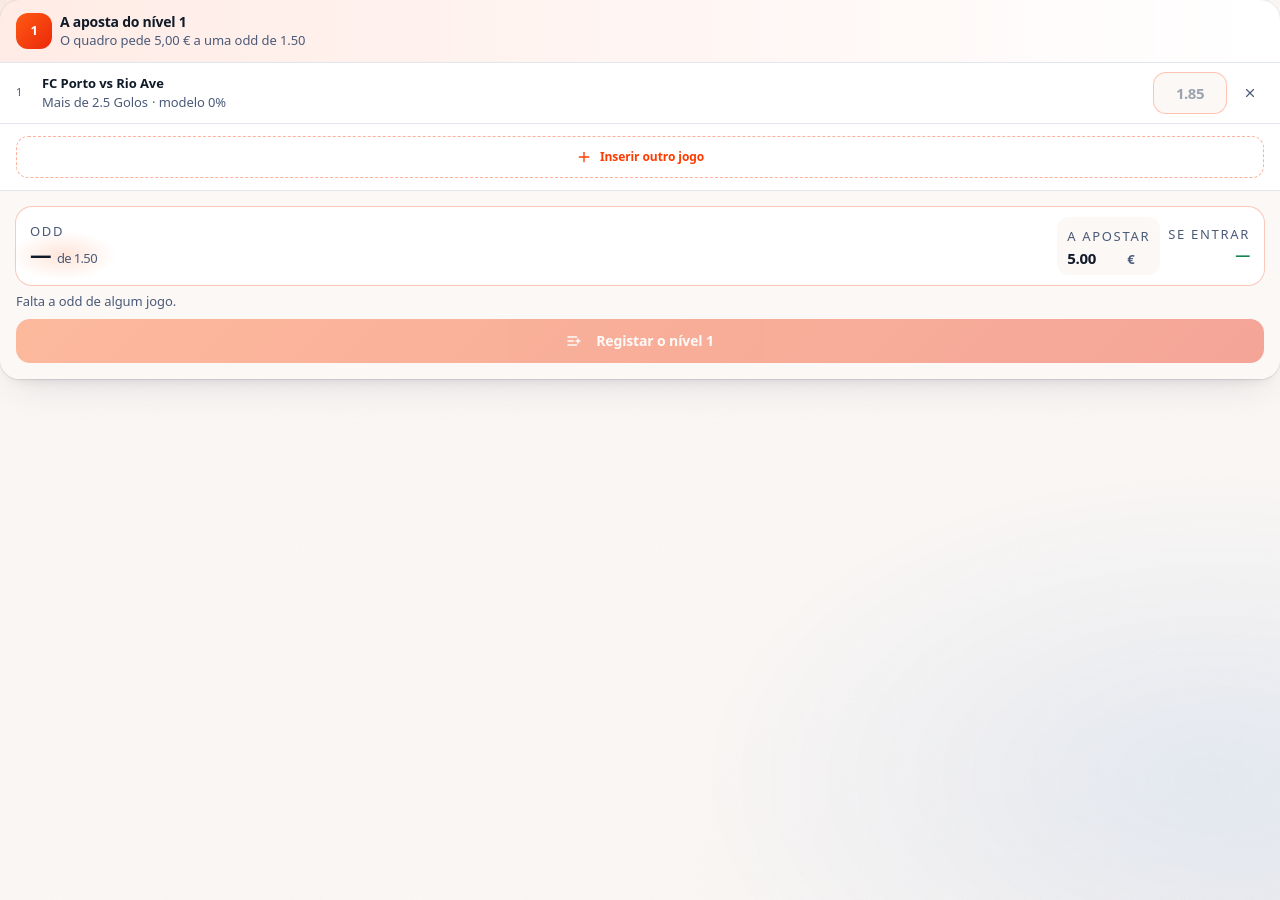
Test case: what the slip says about the price being taken › puts the competition's rate next to what the odd demands
Type "1.47" into the field named "Odd de FC Porto vs Rio Ave".
click(1190, 92); type("1.47")  # box top-left (1154, 72), bottom-right (1226, 112)
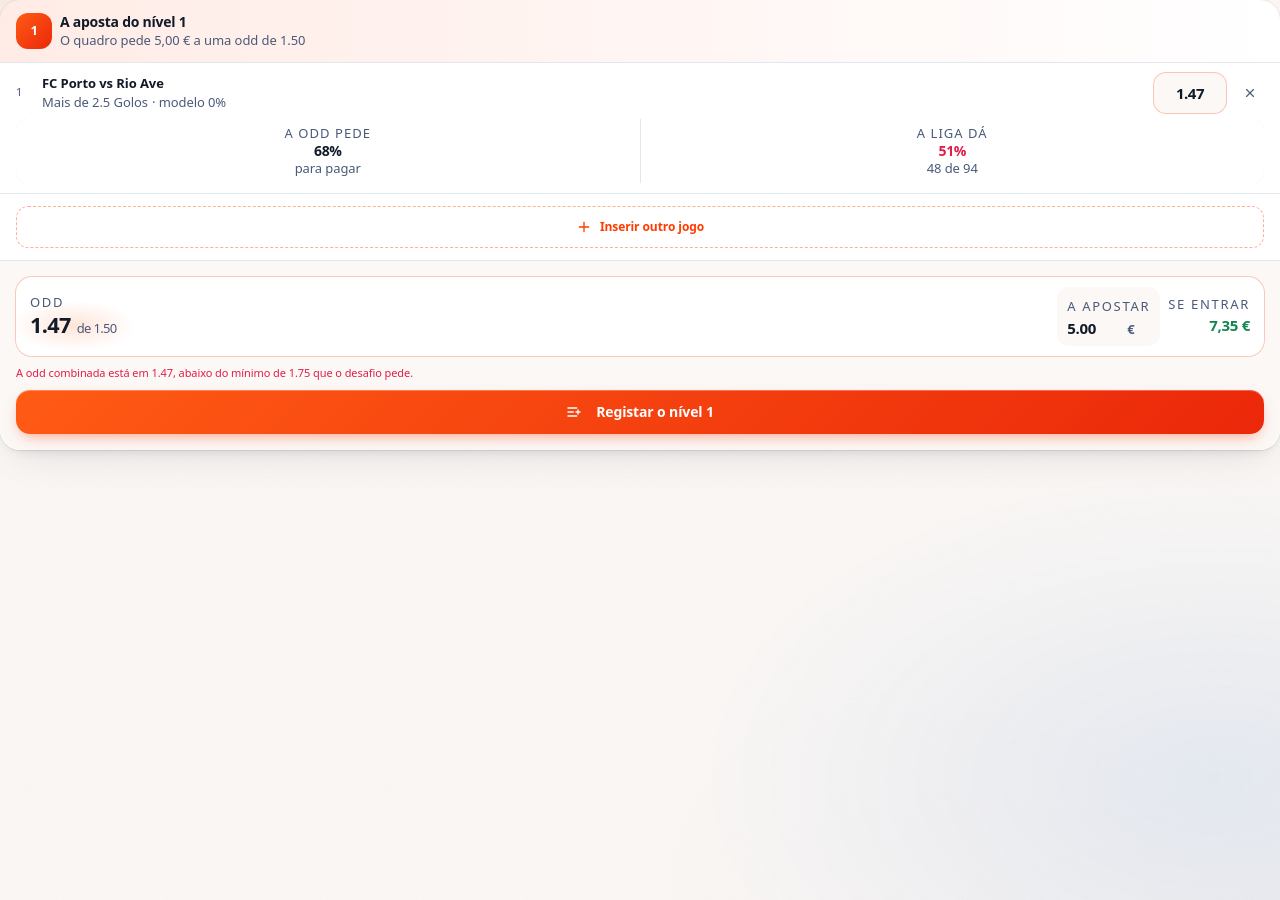
Check: the text "51%" is shown, box top-left (939, 141), bottom-right (966, 160)
Check: the text "68%" is shown, box top-left (314, 141), bottom-right (342, 160)
Check: the text "48 de 94" is shown, box top-left (927, 159), bottom-right (978, 177)
